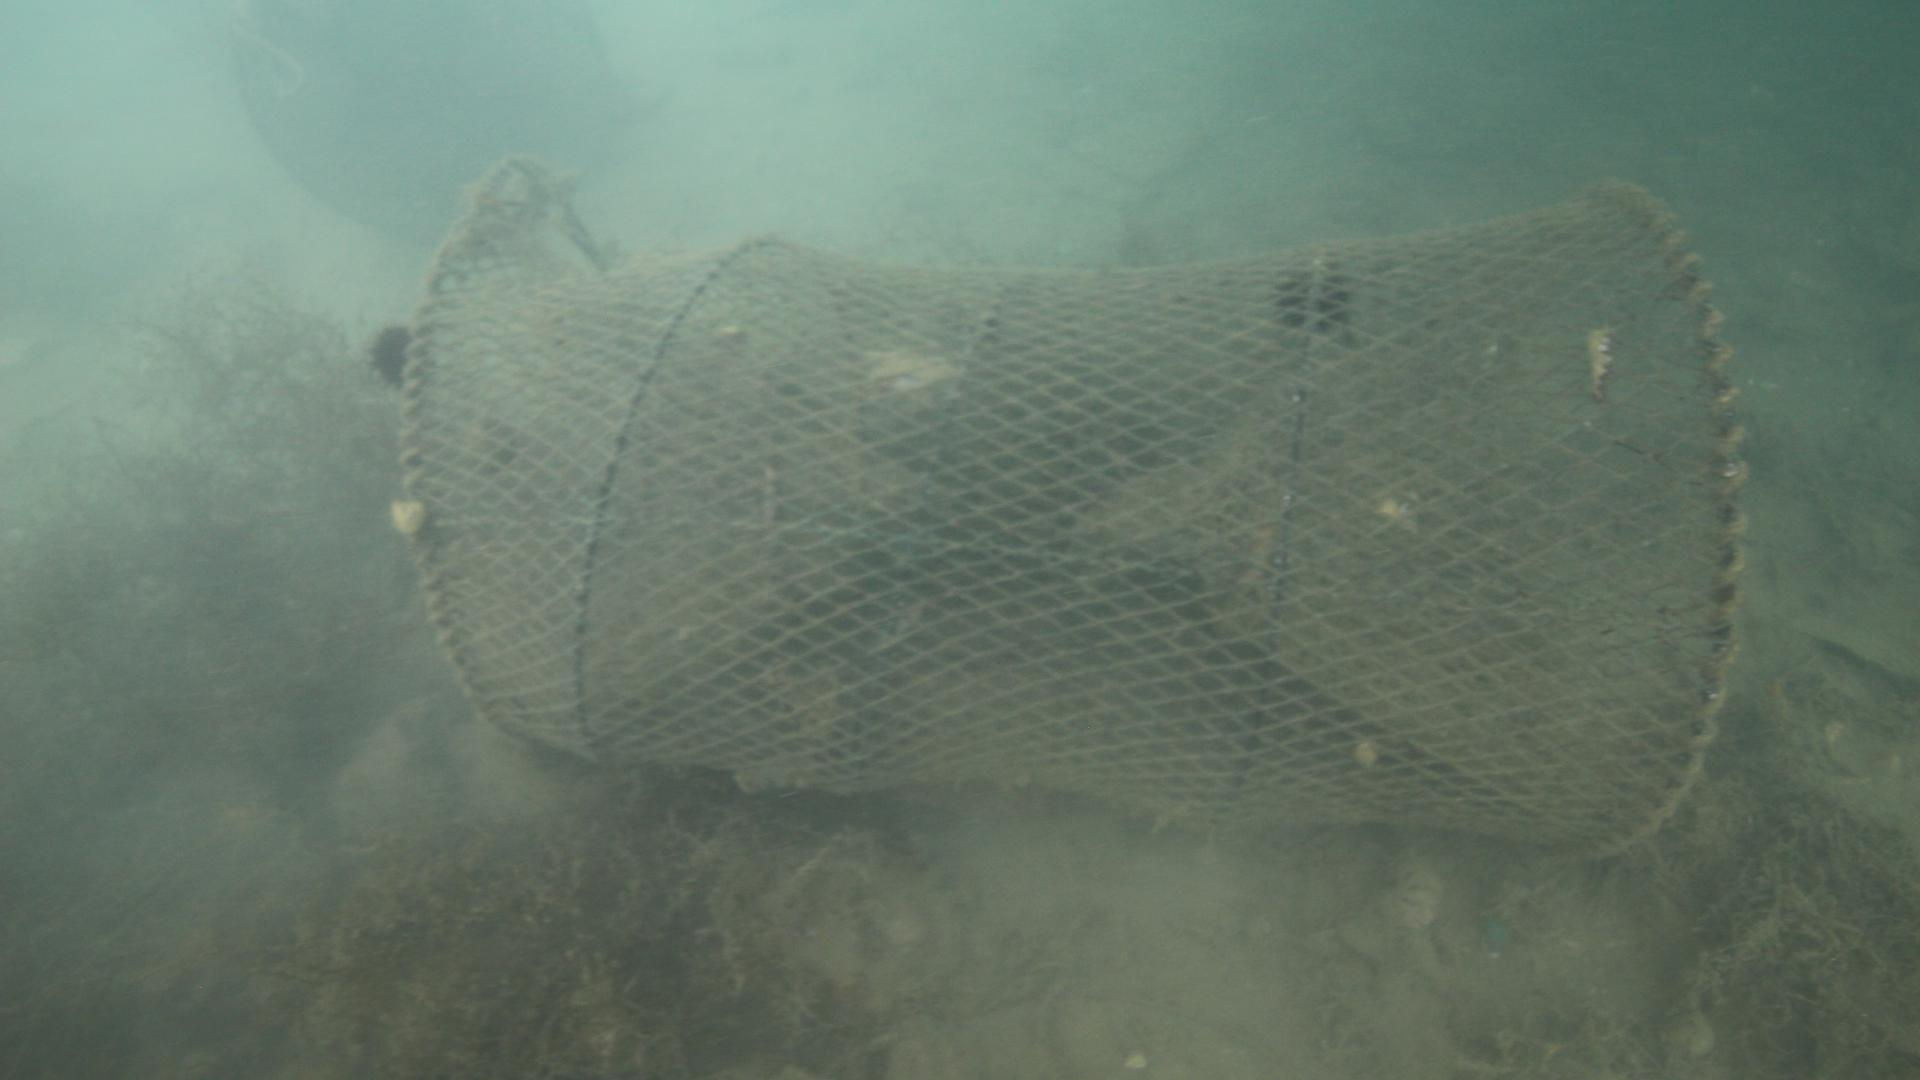spring fish trap: (398, 156, 1749, 864)
